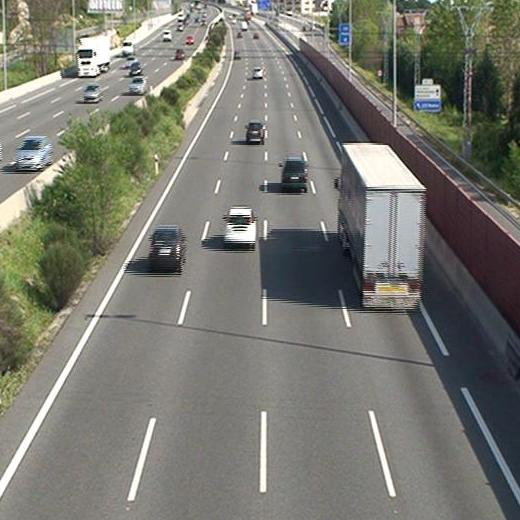car: (149, 229, 185, 271), (222, 208, 257, 244), (280, 158, 307, 188), (246, 121, 264, 143), (251, 67, 263, 79)
truck: (340, 143, 425, 311)
